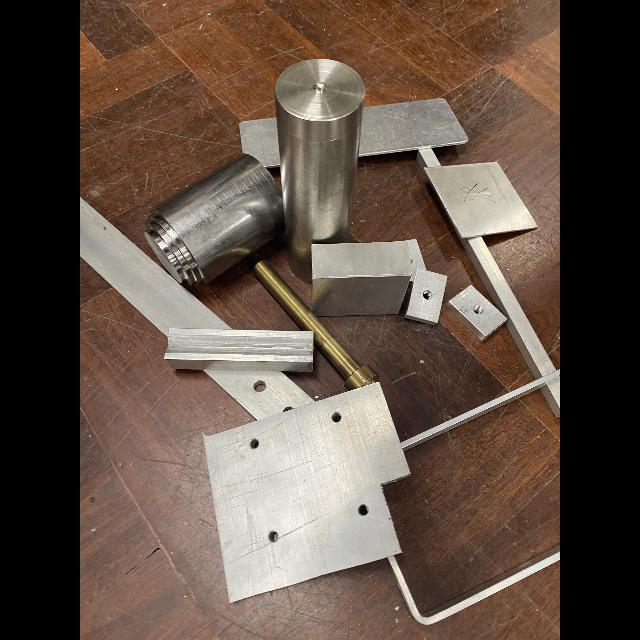Aluminium: (203, 383, 409, 602), (80, 199, 230, 336), (461, 237, 555, 379), (389, 548, 560, 625), (401, 370, 560, 450), (424, 161, 538, 239), (312, 241, 412, 316), (359, 98, 468, 157), (165, 328, 314, 371), (204, 369, 314, 420), (447, 285, 506, 341), (404, 269, 447, 325), (239, 118, 279, 168), (406, 239, 426, 282), (541, 378, 560, 417), (416, 148, 441, 170)
Brass: (254, 260, 379, 390)
Stainless Steel: (275, 60, 364, 282), (145, 154, 285, 285)
